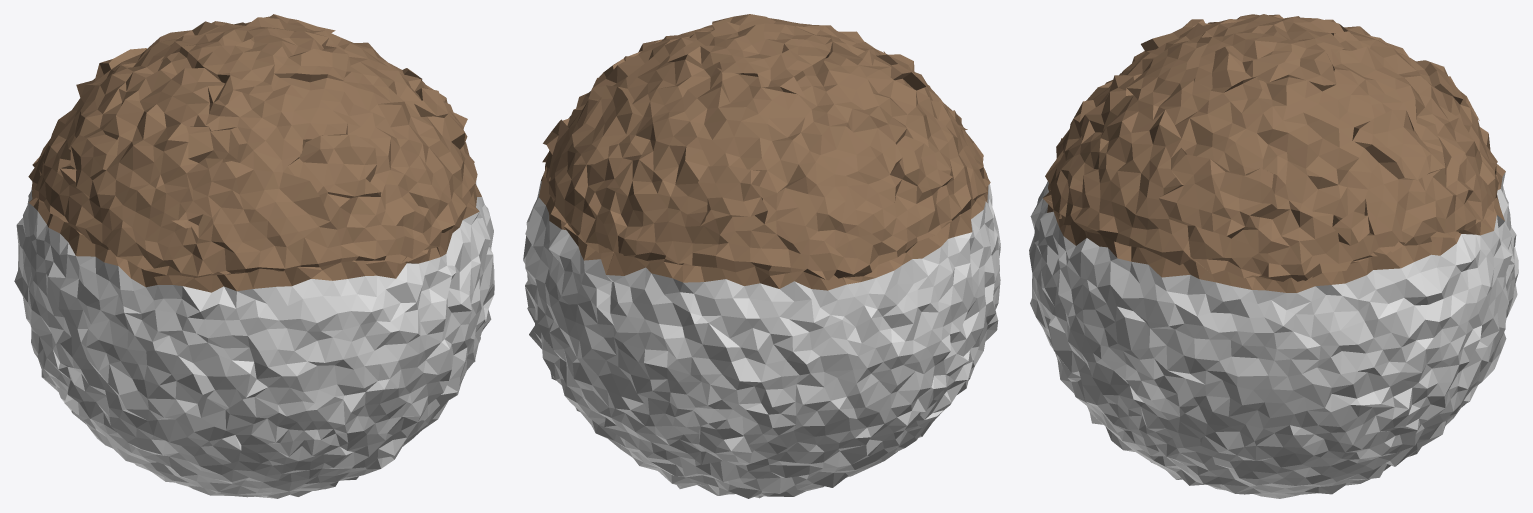
3 renders of one model, left to right at view 1: azimuth 30°, elevation 25°; view 2: azimuth 150°, elevation 25°; view 3: azimuth 270°, elevation 25°, orthographic.
Parts seen in each view (by area): view 1: Icosphere; view 2: Icosphere; view 3: Icosphere.
Part boxes in pixels (x1,y1,x2,y2): Icosphere: (14, 14, 494, 498); Icosphere: (523, 14, 1000, 498); Icosphere: (1029, 14, 1518, 498).
Size of the model in its own units: 840 by 860 by 858.
